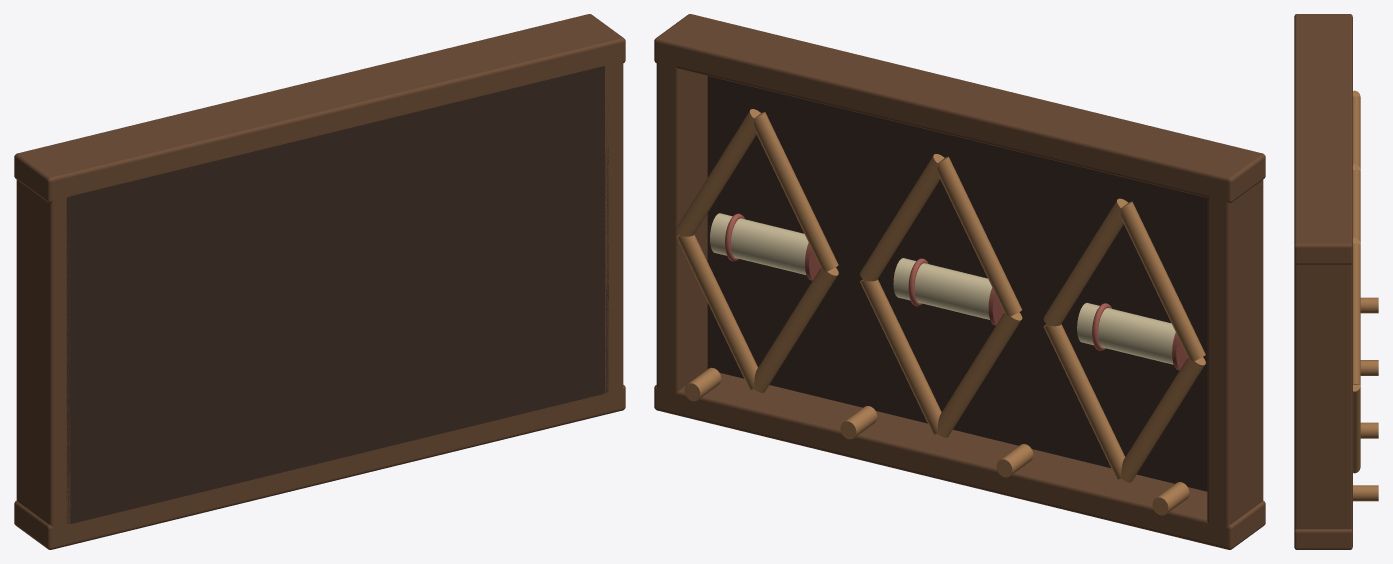
The model's file is detail_scroll_rack.glb.
3 views of the same model, side by side, from view 1: azimuth 30°, elevation 25°; view 2: azimuth 150°, elevation 25°; view 3: azimuth 270°, elevation 25° (orthographic). The views are drawn at different scales.
Parts seen in each view (by area): view 1: plaster; view 2: plaster, metal; view 3: plaster.
Boxes of the visible parts, bbox=[...] form: plaster: bbox=[14, 14, 625, 549]; plaster: bbox=[654, 14, 1265, 549]; metal: bbox=[725, 213, 1111, 350]; plaster: bbox=[1294, 14, 1378, 549].
Bounding box in the file's own units: 2.6 × 1.6 × 0.4.
